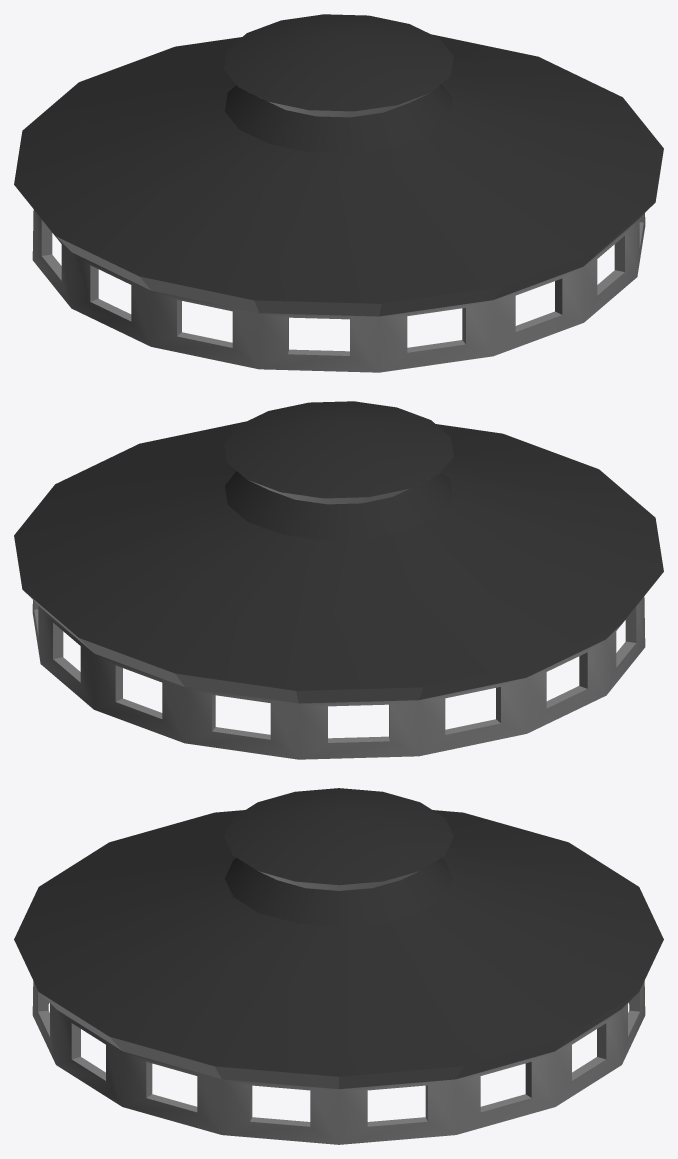
File: mesh003_Stove_Burner_Cap.fbx
The picture shows the model from 3 angles, top to bottom: view 1: azimuth 30°, elevation 25°; view 2: azimuth 150°, elevation 25°; view 3: azimuth 270°, elevation 25°; orthographic projection.
Visible parts, largest first — view 1: mesh003_Stove_Burner_Cap; view 2: mesh003_Stove_Burner_Cap; view 3: mesh003_Stove_Burner_Cap.
Part boxes in pixels (bbox=[...]): mesh003_Stove_Burner_Cap: bbox=[14, 14, 663, 372]; mesh003_Stove_Burner_Cap: bbox=[14, 401, 663, 759]; mesh003_Stove_Burner_Cap: bbox=[14, 788, 663, 1144].
Size of the model in its own units: 0.1851 by 0.0649 by 0.1851.
